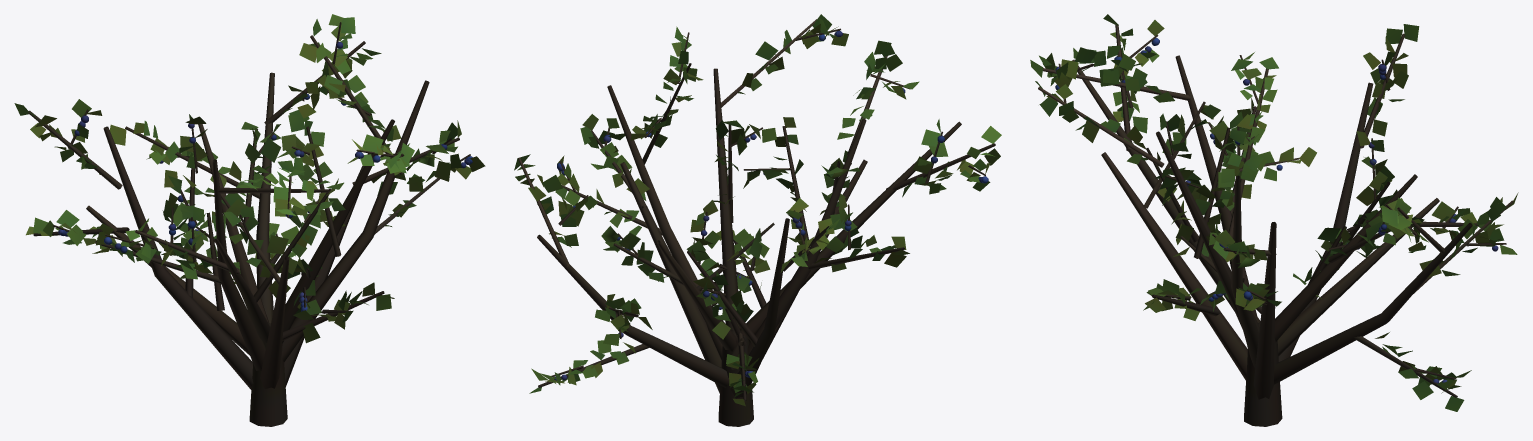
File: bush-blueberry-a.lod0.glb
The picture shows the model from 3 angles, left to right: view 1: azimuth 30°, elevation 25°; view 2: azimuth 150°, elevation 25°; view 3: azimuth 270°, elevation 25°; orthographic projection. The views are drawn at different scales.
Visible parts, largest first — view 1: bush-blueberry-a.lod0; view 2: bush-blueberry-a.lod0; view 3: bush-blueberry-a.lod0.
Boxes of the visible parts, x1,y1,x2,y2 form: bush-blueberry-a.lod0: [14, 14, 485, 426]; bush-blueberry-a.lod0: [514, 14, 1001, 426]; bush-blueberry-a.lod0: [1030, 14, 1518, 426].
Bounding box in the file's own units: 0.8987 × 0.7975 × 0.8887.
